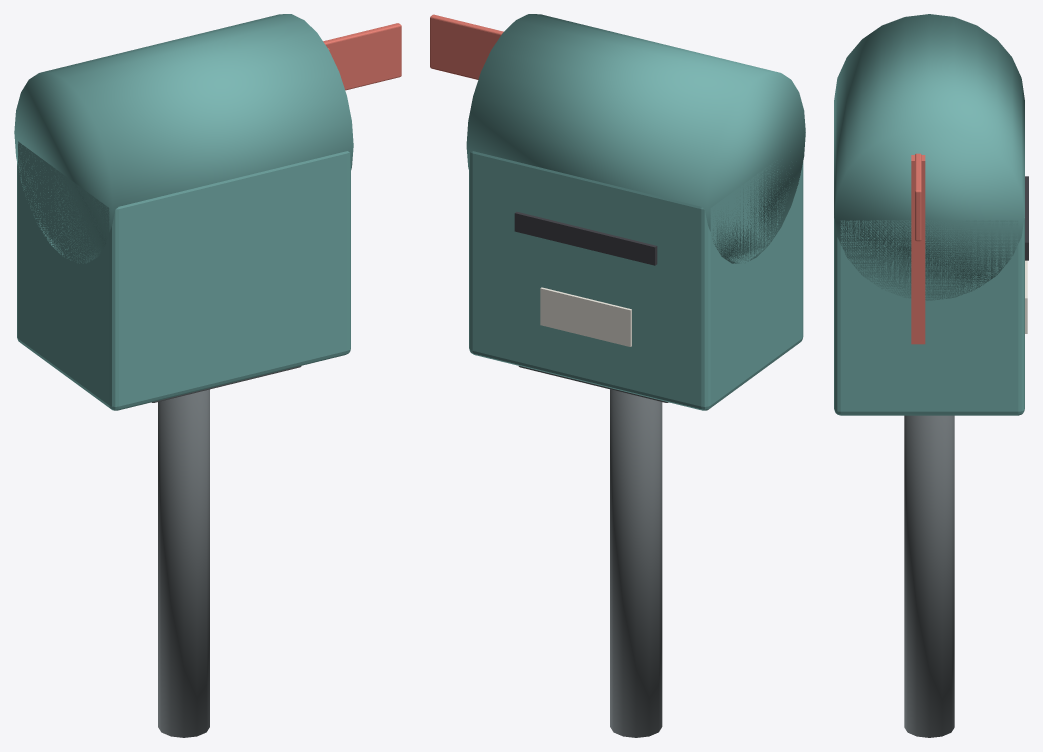
The model's file is mailbox.glb.
The picture shows the model from 3 angles, left to right: view 1: azimuth 30°, elevation 25°; view 2: azimuth 150°, elevation 25°; view 3: azimuth 270°, elevation 25°; orthographic projection. The views are drawn at different scales.
Parts seen in each view (by area): view 1: mailbox; view 2: mailbox; view 3: mailbox.
Part boxes in pixels (bbox=[...]): mailbox: bbox=[14, 14, 401, 737]; mailbox: bbox=[430, 14, 805, 737]; mailbox: bbox=[834, 14, 1028, 737].
Size of the model in its own units: 0.66 by 1.29 by 0.347.
